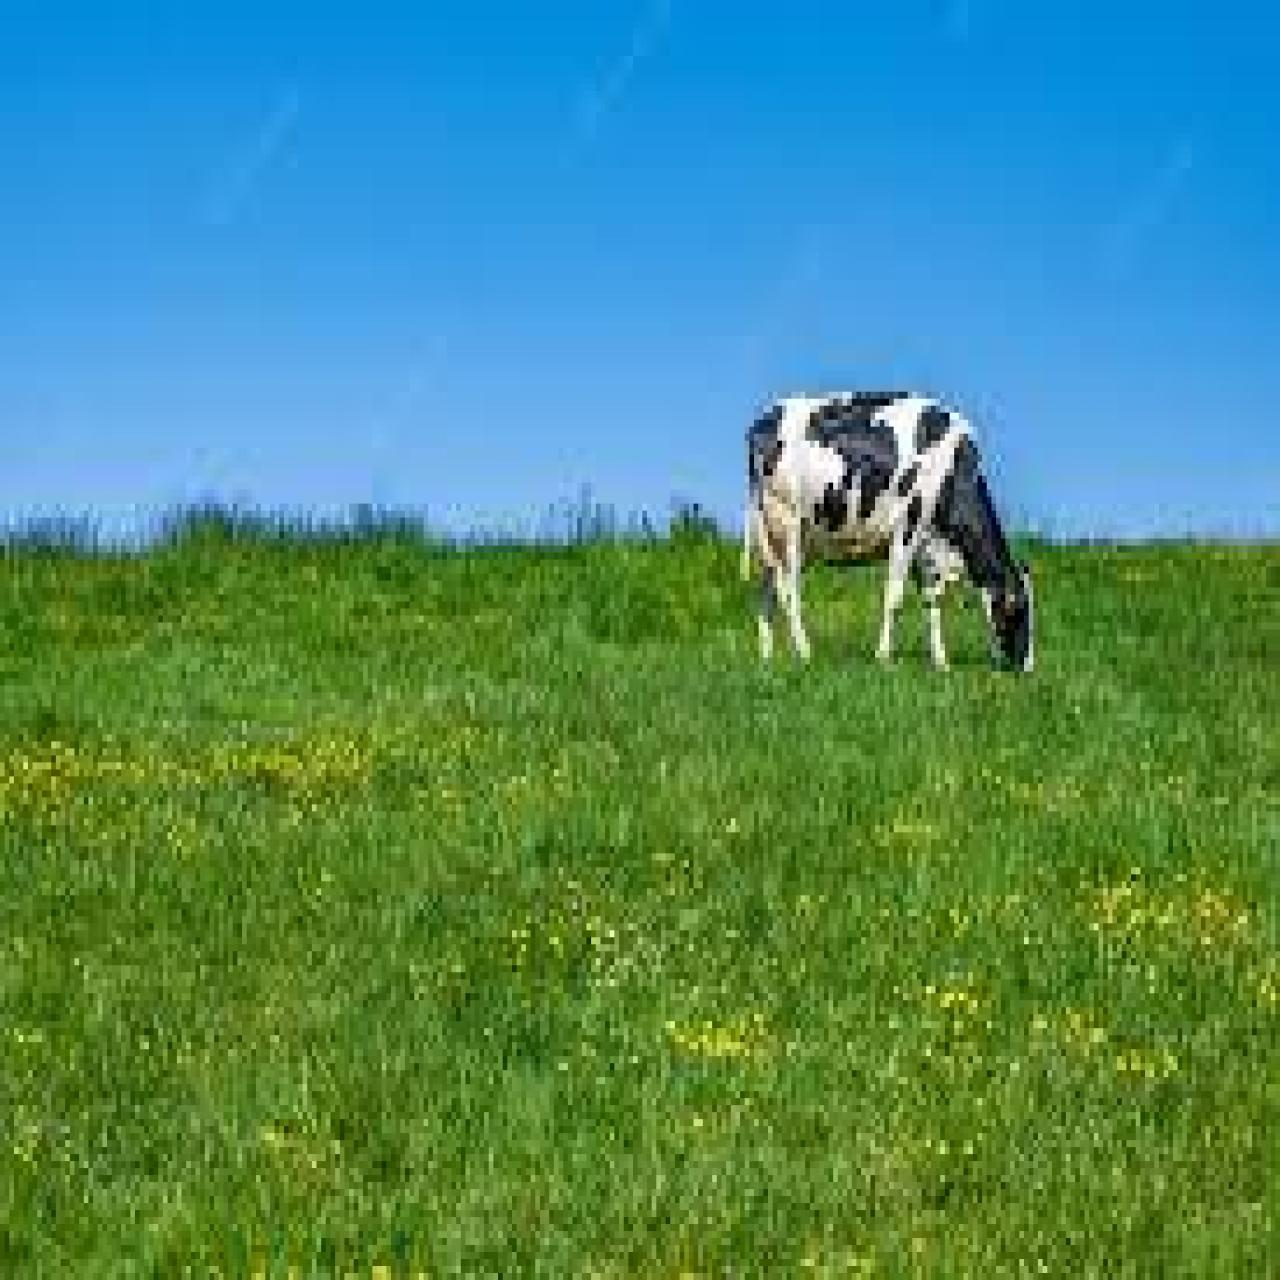cow: (744, 395, 1033, 668)
